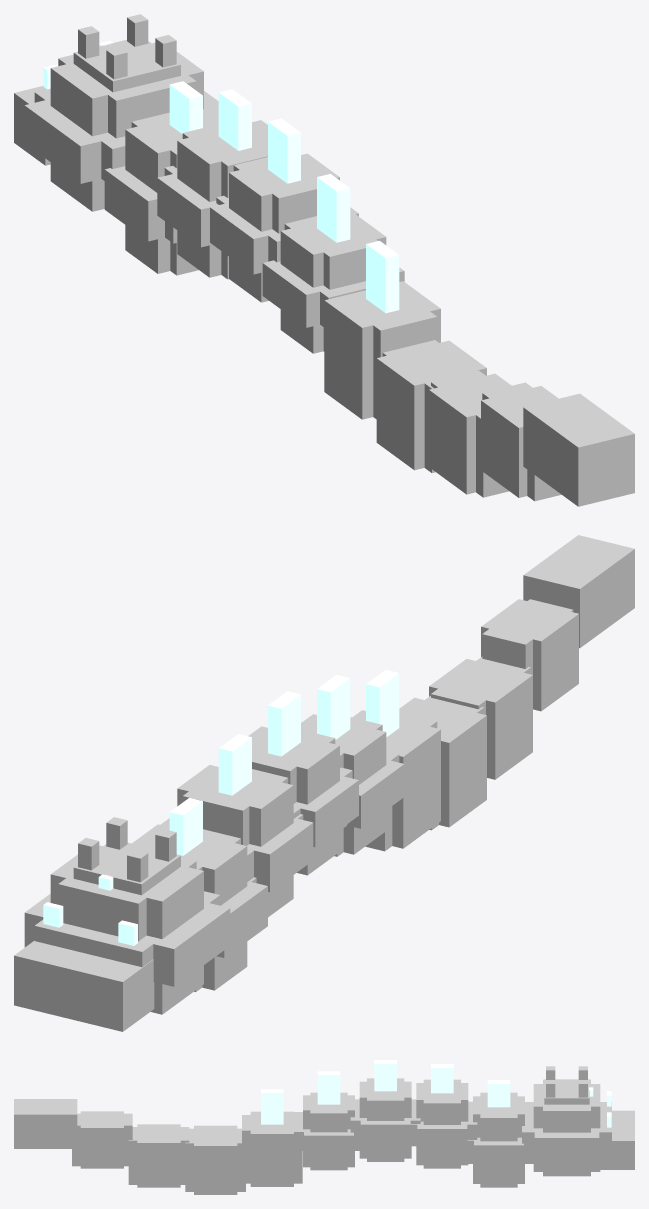
The model's file is AtlantisLeviathan.fbx.
3 views of the same model, one above another, from view 1: azimuth 30°, elevation 25°; view 2: azimuth 150°, elevation 25°; view 3: azimuth 270°, elevation 25° (orthographic). The views are drawn at different scales.
Visible parts, largest first — view 1: Atlantis Leviathan_tail_40, Atlantis Leviathan_tail_30, Atlantis Leviathan_tail_26, Atlantis Leviathan_head_43, Atlantis Leviathan_head_45, Atlantis Leviathan_tail_34, Atlantis Leviathan_body_16, Atlantis Leviathan_tail_27, Atlantis Leviathan_body_10, Atlantis Leviathan_body_4, Atlantis Leviathan_body_2, Atlantis Leviathan_body_22 (+27 smaller); view 2: Atlantis Leviathan_head_47, Atlantis Leviathan_tail_40, Atlantis Leviathan_head_43, Atlantis Leviathan_tail_34, Atlantis Leviathan_head_46, Atlantis Leviathan_tail_38, Atlantis Leviathan_body_10, Atlantis Leviathan_head_45, Atlantis Leviathan_tail_30, Atlantis Leviathan_body_16, Atlantis Leviathan_body_4, Atlantis Leviathan_head_44 (+26 smaller); view 3: Atlantis Leviathan_tail_40, Atlantis Leviathan_tail_30, Atlantis Leviathan_head_43, Atlantis Leviathan_tail_26, Atlantis Leviathan_head_47, Atlantis Leviathan_tail_34, Atlantis Leviathan_head_45, Atlantis Leviathan_body_2, Atlantis Leviathan_body_8, Atlantis Leviathan_body_10, Atlantis Leviathan_tail_38, Atlantis Leviathan_body_14 (+40 smaller).
Part boxes in pixels (x1,y1,x2,y2): Atlantis Leviathan_tail_40: [523, 393, 634, 506]; Atlantis Leviathan_tail_30: [376, 340, 486, 427]; Atlantis Leviathan_tail_26: [324, 281, 440, 373]; Atlantis Leviathan_head_43: [24, 91, 218, 183]; Atlantis Leviathan_head_45: [50, 42, 203, 136]; Atlantis Leviathan_tail_34: [429, 373, 511, 455]; Atlantis Leviathan_body_16: [229, 153, 339, 231]; Atlantis Leviathan_tail_27: [336, 291, 437, 373]; Atlantis Leviathan_body_10: [177, 120, 267, 201]; Atlantis Leviathan_body_4: [125, 107, 218, 192]; Atlantis Leviathan_body_2: [104, 166, 164, 241]; Atlantis Leviathan_body_22: [280, 213, 386, 287]; Atlantis Leviathan_head_47: [14, 940, 154, 1031]; Atlantis Leviathan_tail_40: [523, 535, 634, 648]; Atlantis Leviathan_head_43: [24, 894, 230, 986]; Atlantis Leviathan_tail_34: [429, 659, 532, 740]; Atlantis Leviathan_head_46: [58, 857, 196, 941]; Atlantis Leviathan_tail_38: [481, 599, 578, 676]; Atlantis Leviathan_body_10: [177, 765, 293, 846]; Atlantis Leviathan_head_45: [50, 845, 203, 938]; Atlantis Leviathan_tail_30: [399, 697, 486, 784]; Atlantis Leviathan_body_16: [248, 726, 339, 804]; Atlantis Leviathan_body_4: [132, 824, 247, 905]; Atlantis Leviathan_head_44: [34, 891, 219, 967]; Atlantis Leviathan_tail_40: [14, 1099, 77, 1148]; Atlantis Leviathan_tail_30: [194, 1125, 237, 1170]; Atlantis Leviathan_head_43: [534, 1128, 599, 1159]; Atlantis Leviathan_tail_26: [250, 1111, 293, 1160]; Atlantis Leviathan_head_47: [598, 1110, 634, 1169]; Atlantis Leviathan_tail_34: [137, 1124, 180, 1165]; Atlantis Leviathan_head_45: [543, 1079, 590, 1132]; Atlantis Leviathan_body_2: [474, 1137, 523, 1168]; Atlantis Leviathan_body_8: [417, 1121, 467, 1150]; Atlantis Leviathan_body_10: [423, 1079, 460, 1124]; Atlantis Leviathan_tail_38: [80, 1111, 123, 1148]; Atlantis Leviathan_body_14: [360, 1118, 410, 1145].
Bounding box in the file's own units: 132 × 179 × 822.
